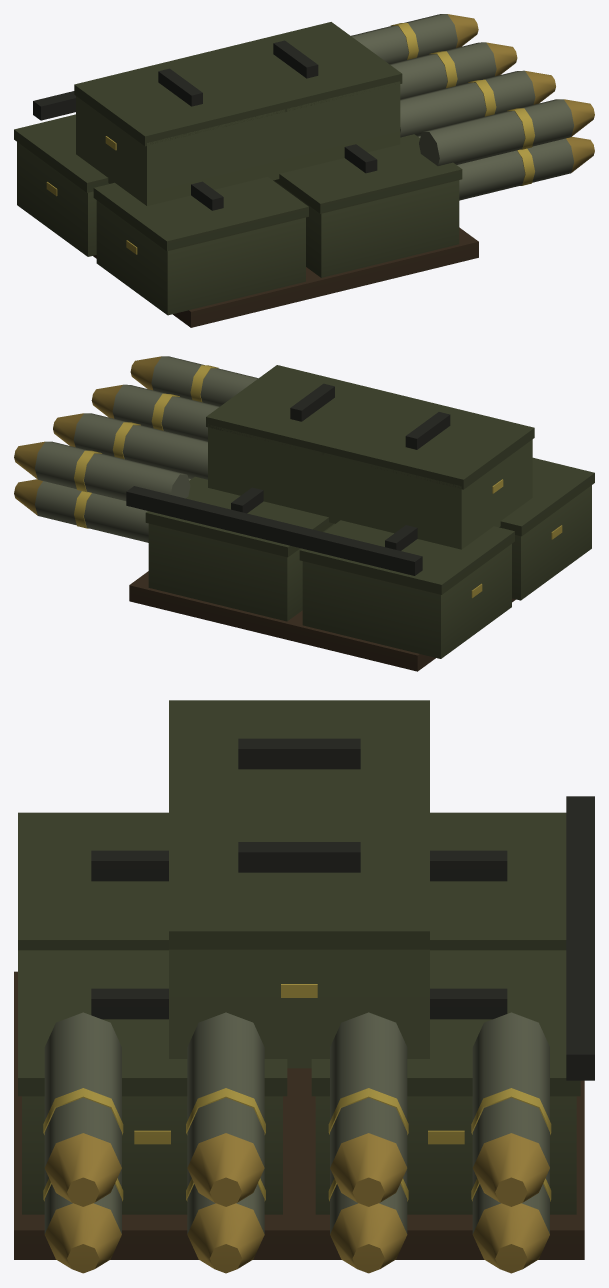
File: m_ammot_96f70697.glb
3 views of the same model, one above another, from view 1: azimuth 30°, elevation 25°; view 2: azimuth 150°, elevation 25°; view 3: azimuth 270°, elevation 25° (orthographic). The views are drawn at different scales.
Visible parts, largest first — view 1: mesh; view 2: mesh; view 3: mesh.
Part boxes in pixels (x1,y1,x2,y2): mesh: (14,14,594,327); mesh: (14,356,594,671); mesh: (14,700,594,1273).
Bounding box in the file's own units: 23 × 8.6 × 14.25.
